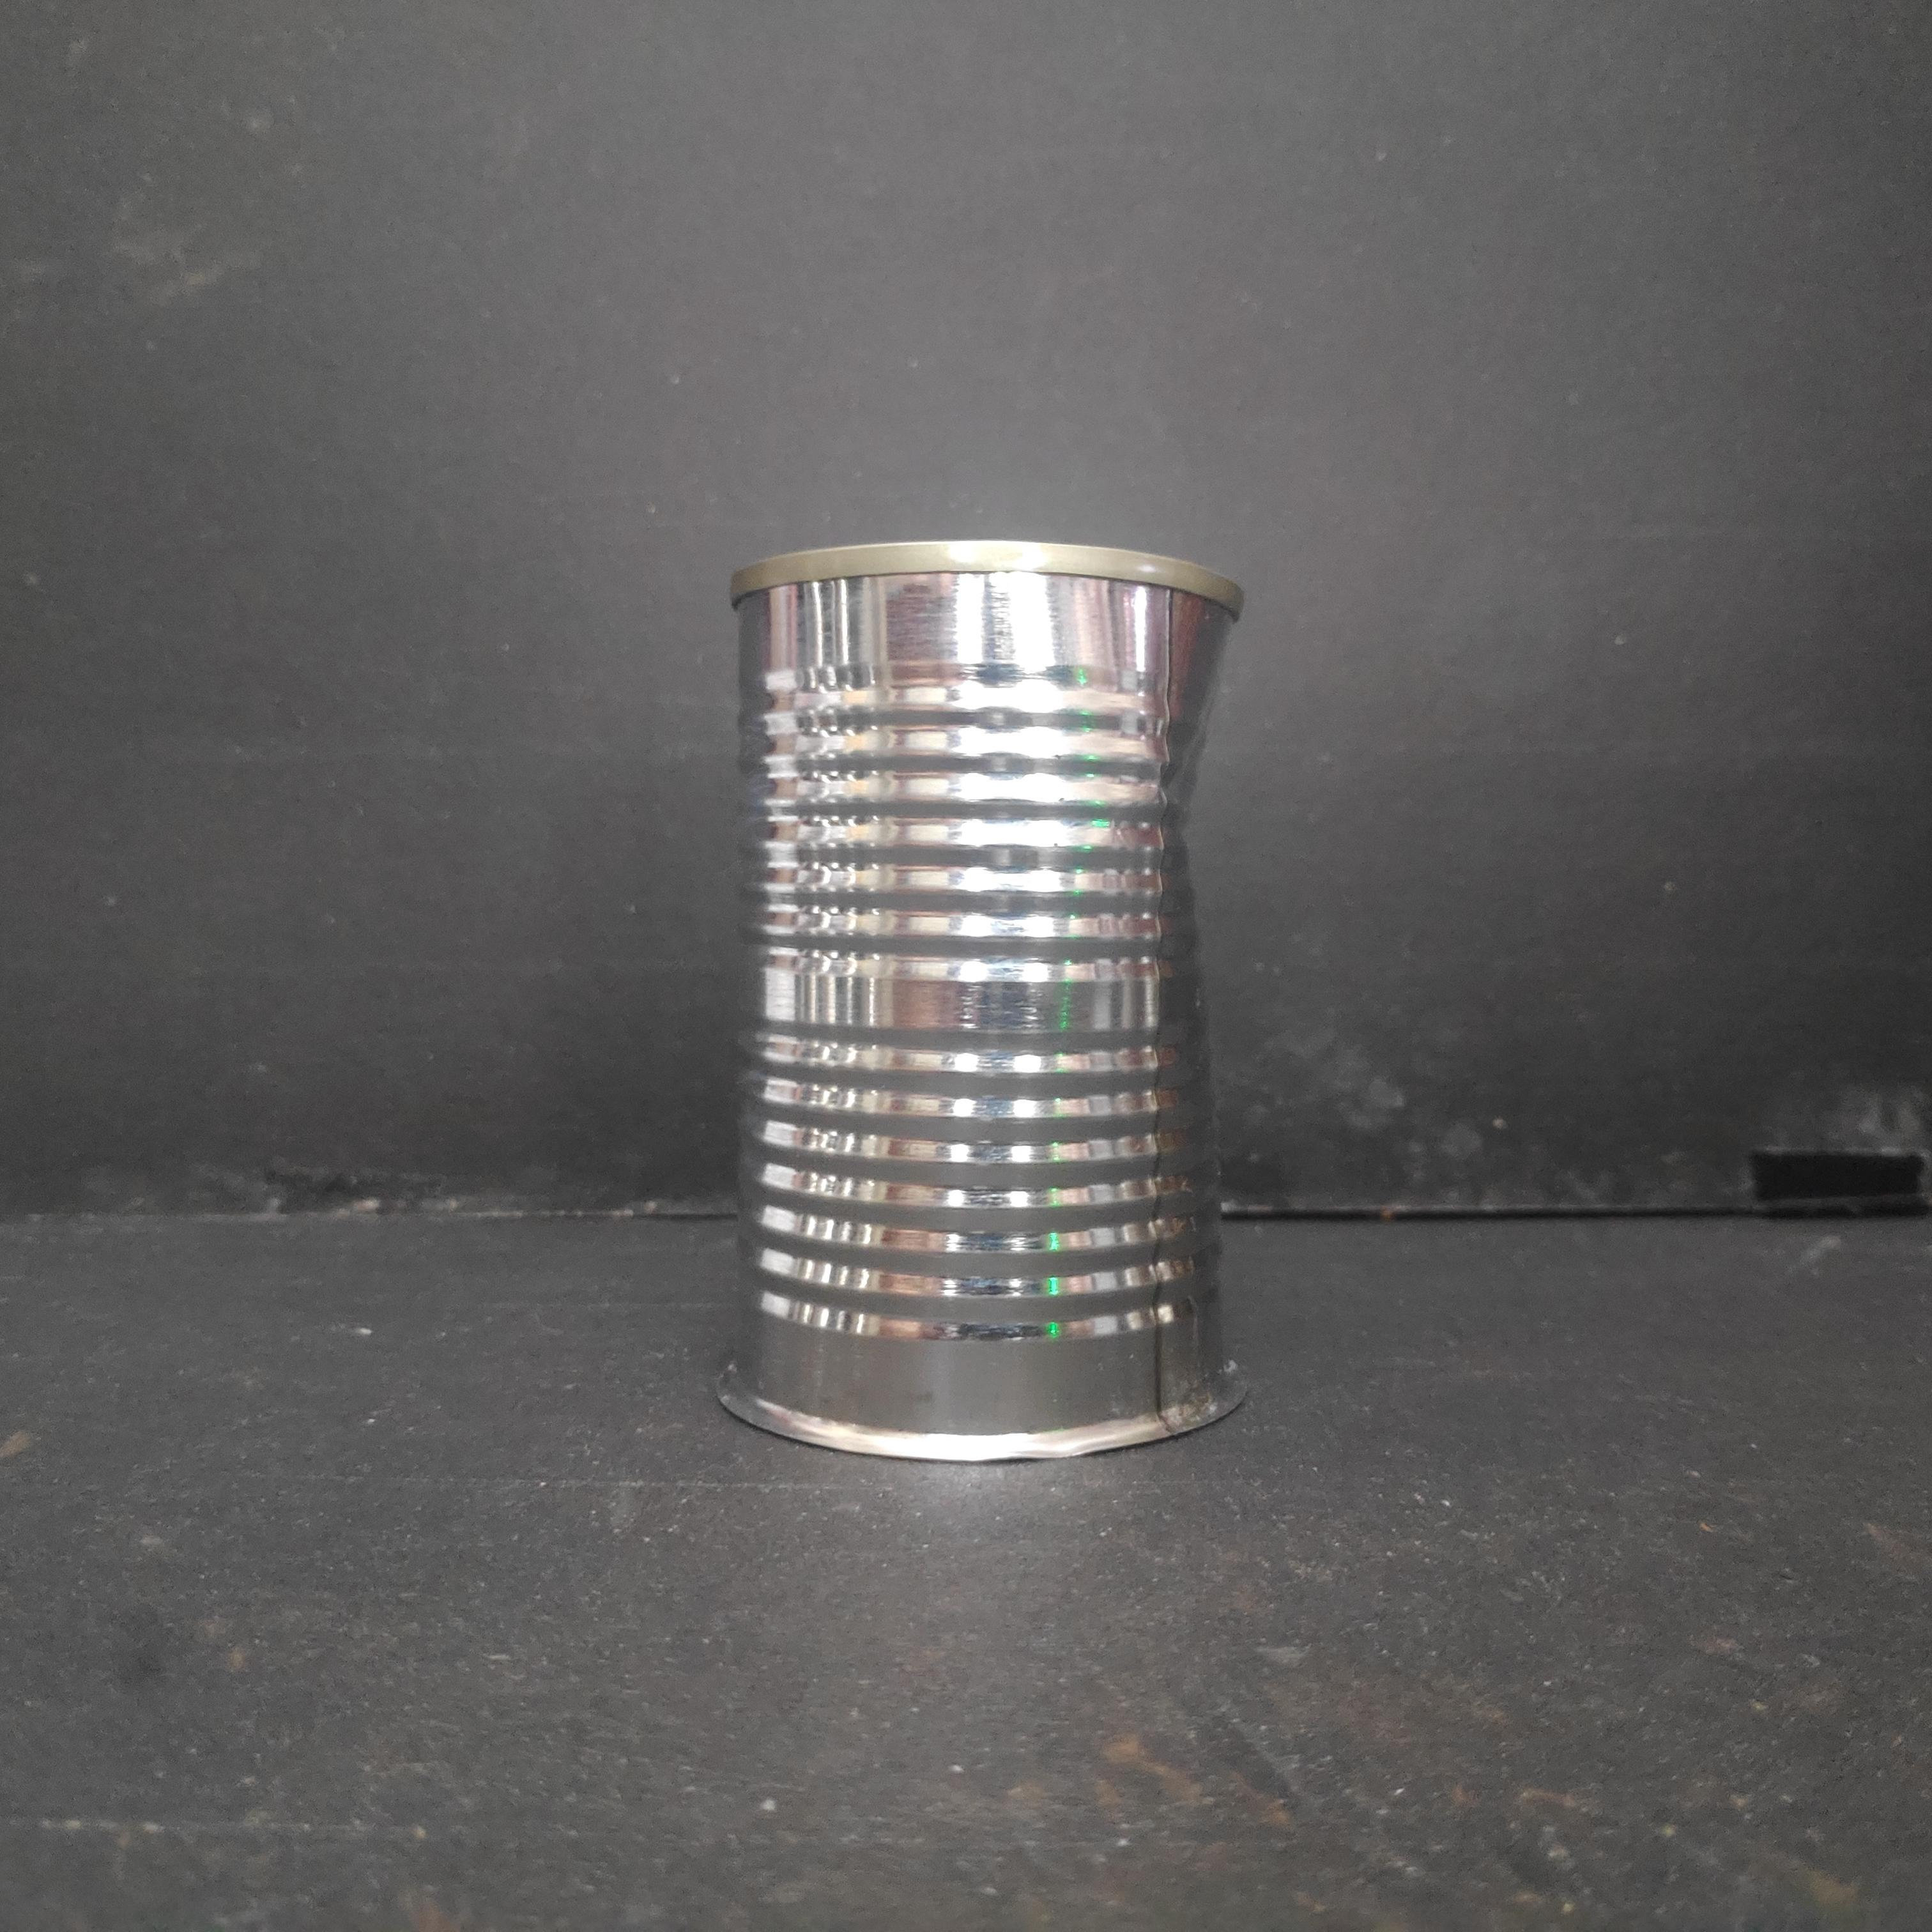Minor Defect: (720, 522, 1267, 1476)
